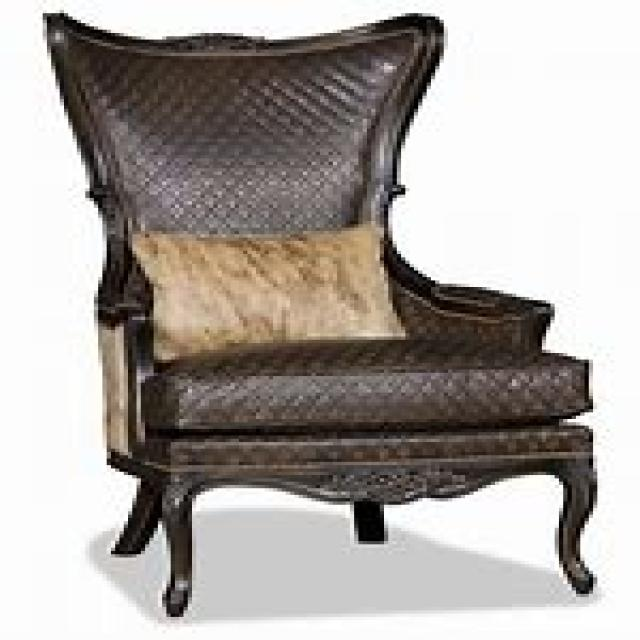chair: (39, 7, 598, 617)
